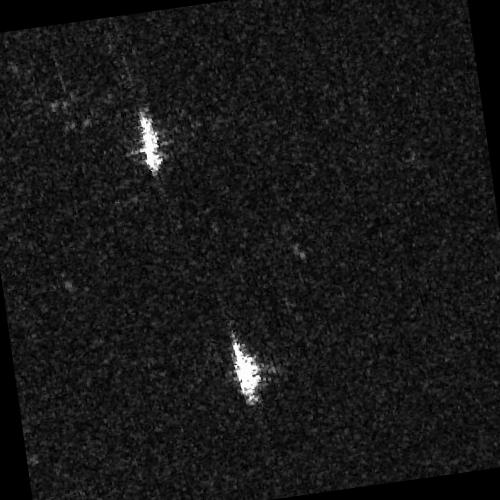ship: (230, 335, 261, 405), (137, 114, 164, 174)
